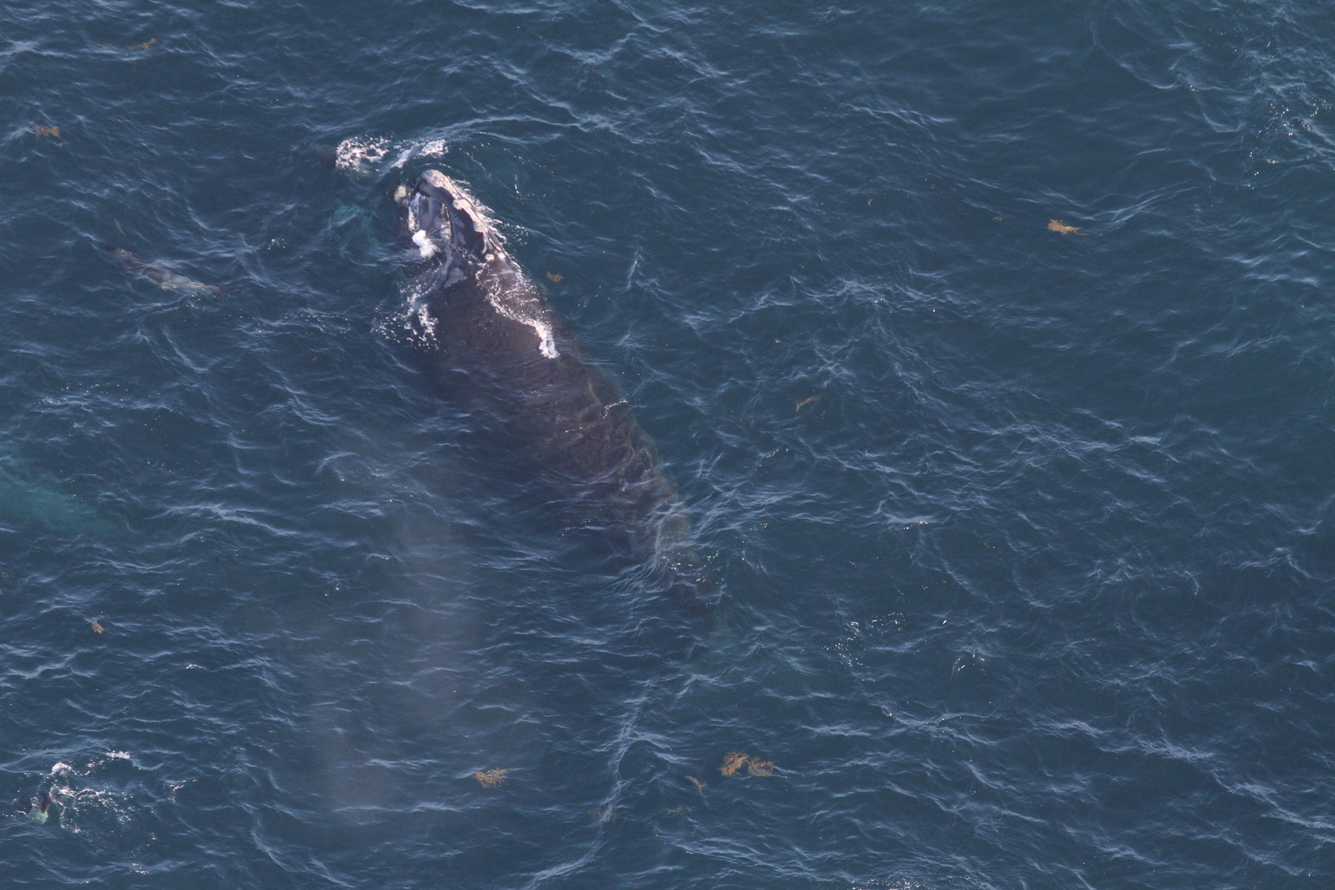whale: (364, 160, 851, 749)
